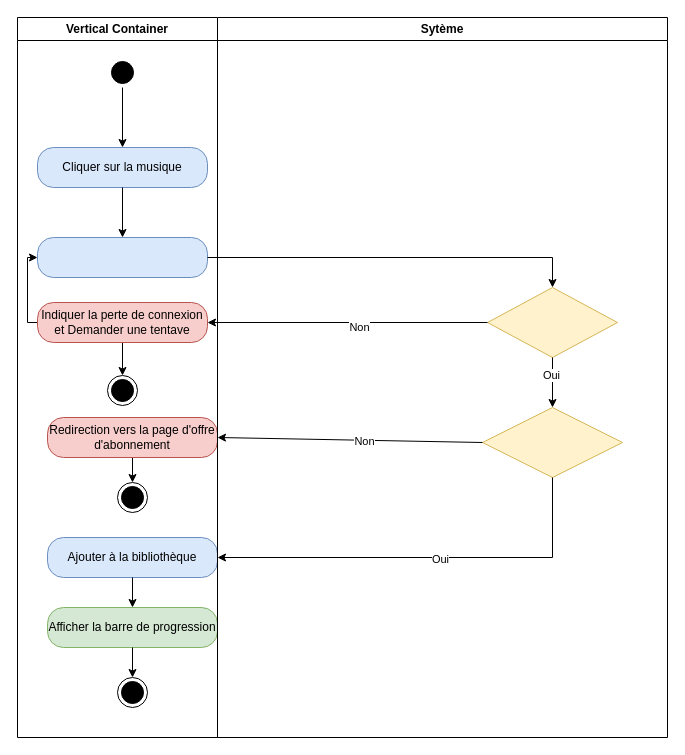
The diagram is 685 pixels wide and 755 high, and some of its shapes have lost their labels. The shapes that lost their labels are listed below. From the top down, each one's box as (x1, y1, x2, y2) in pixels, then its label:
(36, 236, 208, 278): Cliquer sur l'icône de téléchargement
(486, 286, 618, 358): SE1: Connexion à la base de données
(482, 406, 622, 478): SA1: Abonnement
